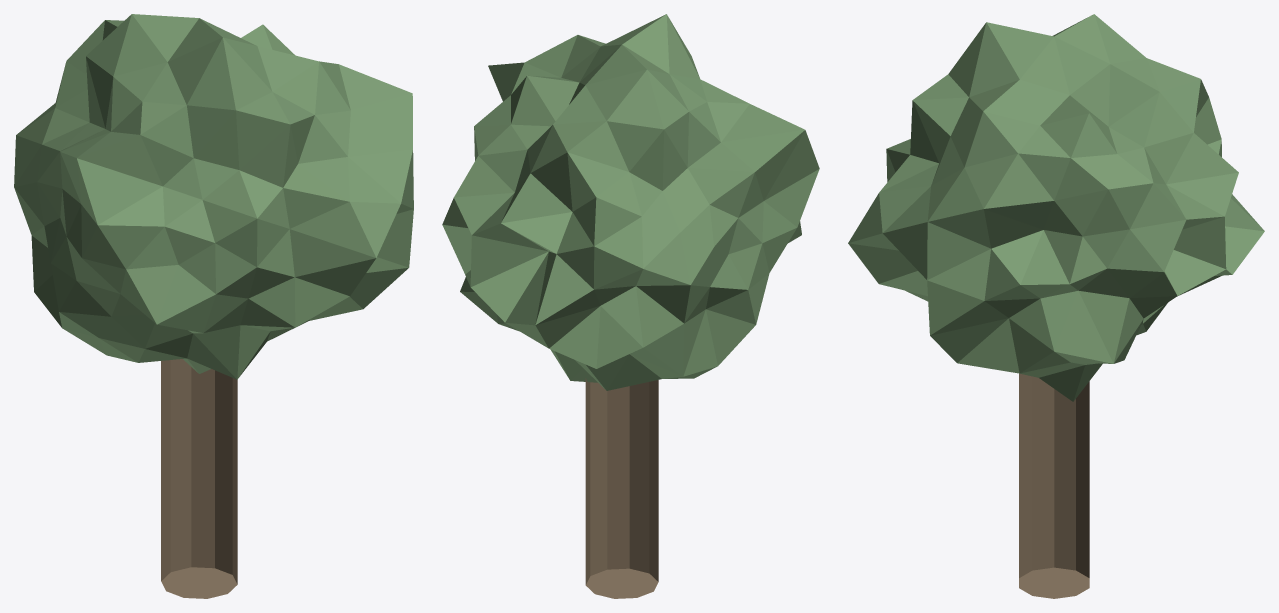
Rendered from tree_small_02.glb.
3 views of the same model, side by side, from view 1: azimuth 30°, elevation 25°; view 2: azimuth 150°, elevation 25°; view 3: azimuth 270°, elevation 25° (orthographic). The views are drawn at different scales.
Visible parts, largest first — view 1: world; view 2: world; view 3: world.
Part boxes in pixels (<box>): world: <box>14,14,413,598</box>; world: <box>442,14,819,598</box>; world: <box>848,14,1264,598</box>.
Bounding box in the file's own units: 1.21 × 1.98 × 1.35.
